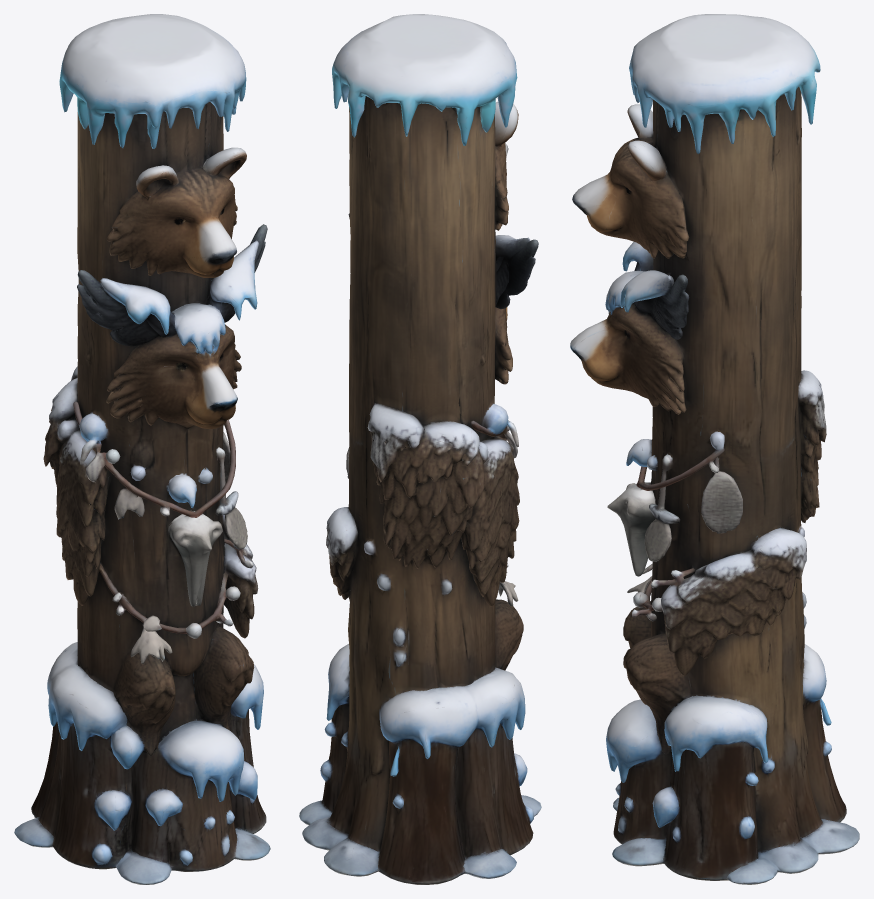
Rendered from world_totem.glb.
The picture shows the model from 3 angles, left to right: view 1: azimuth 30°, elevation 25°; view 2: azimuth 150°, elevation 25°; view 3: azimuth 270°, elevation 25°; orthographic projection.
Visible parts, largest first — view 1: geometry_0; view 2: geometry_0; view 3: geometry_0.
Boxes of the visible parts, box(x1,y1,x2,y2) form: geometry_0: box(14, 14, 270, 884); geometry_0: box(299, 14, 541, 884); geometry_0: box(570, 14, 859, 884).
Bounding box in the file's own units: 0.2904 × 1 × 0.3306.
1 material, 1 textured.
